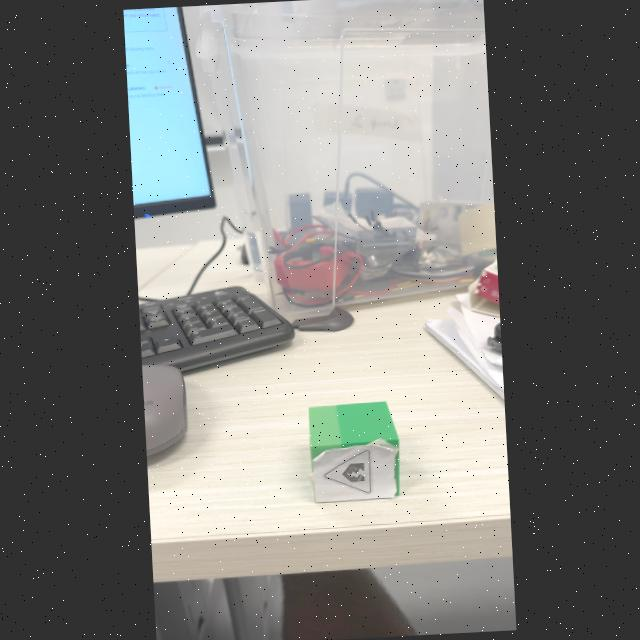Earthquake: (324, 450, 372, 494)
